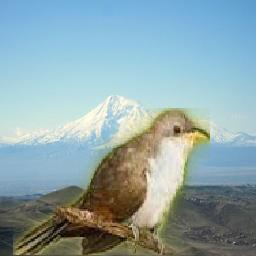Cuckoo: (14, 109, 211, 256)
